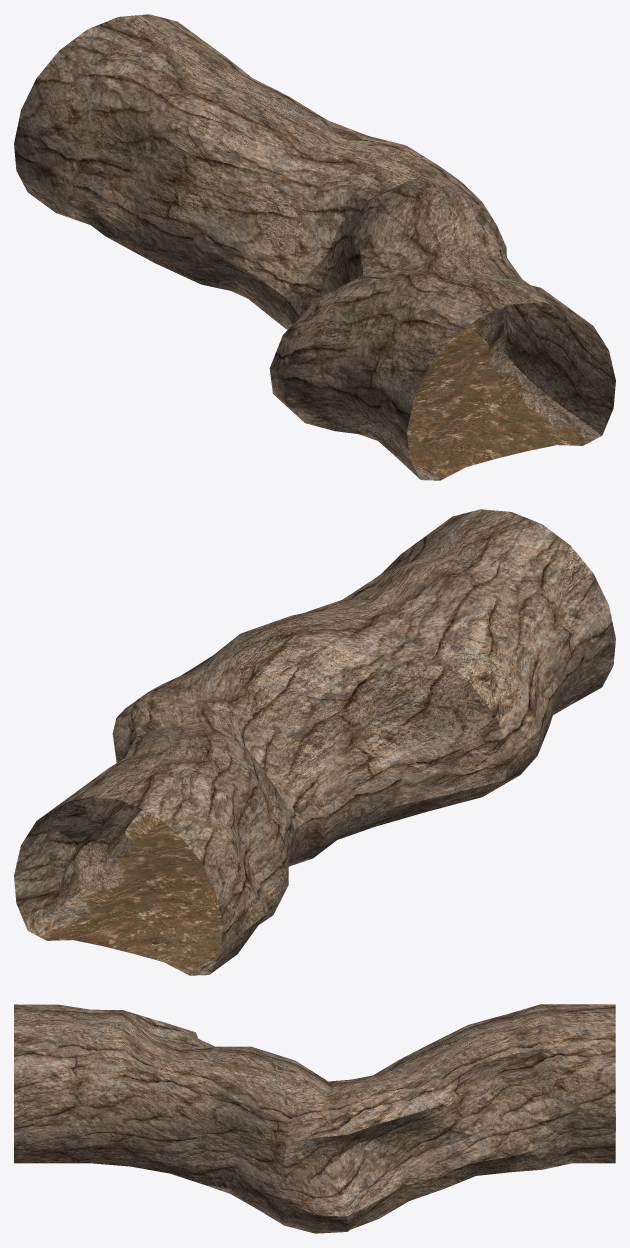
The model's file is CaveCorridorStraight.obj.
3 renders of one model, top to bottom at view 1: azimuth 30°, elevation 25°; view 2: azimuth 150°, elevation 25°; view 3: azimuth 270°, elevation 25°, orthographic. The views are drawn at different scales.
Visible parts, largest first — view 1: CaveCorridorStraight; view 2: CaveCorridorStraight; view 3: CaveCorridorStraight.
Part boxes in pixels (x1=…): CaveCorridorStraight: x1=14, y1=14, x2=615, y2=480; CaveCorridorStraight: x1=14, y1=509, x2=615, y2=975; CaveCorridorStraight: x1=14, y1=1004, x2=615, y2=1233.
Size of the model in its own units: 4.86 by 3.08 by 10.4.
